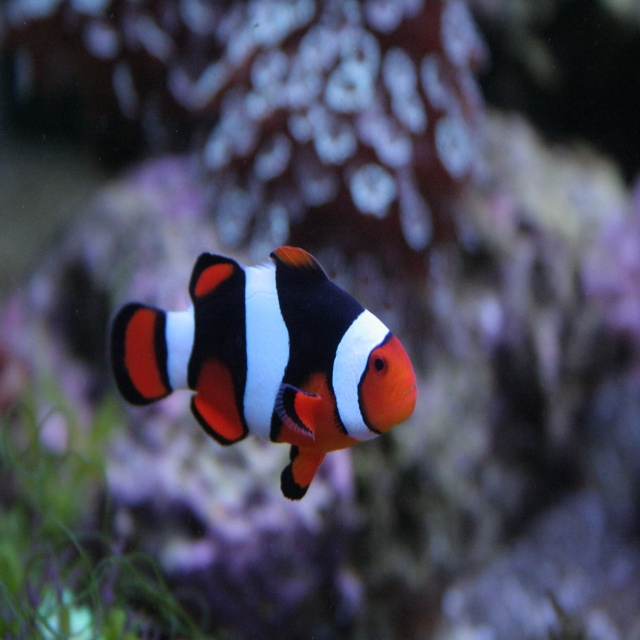Fish: (105, 246, 418, 502)
